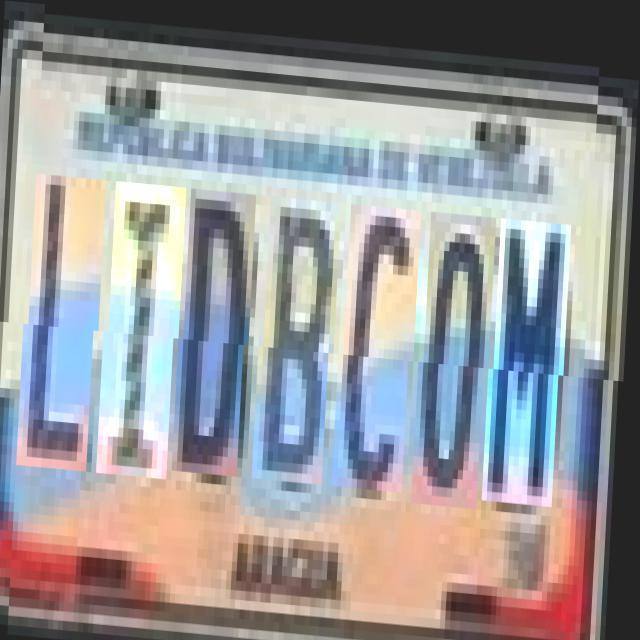B: (262, 191, 344, 478)
C: (342, 196, 424, 484)
D: (182, 184, 258, 472)
I: (106, 179, 188, 476)
L: (26, 173, 108, 470)
M: (492, 208, 574, 496)
O: (421, 203, 498, 500)
